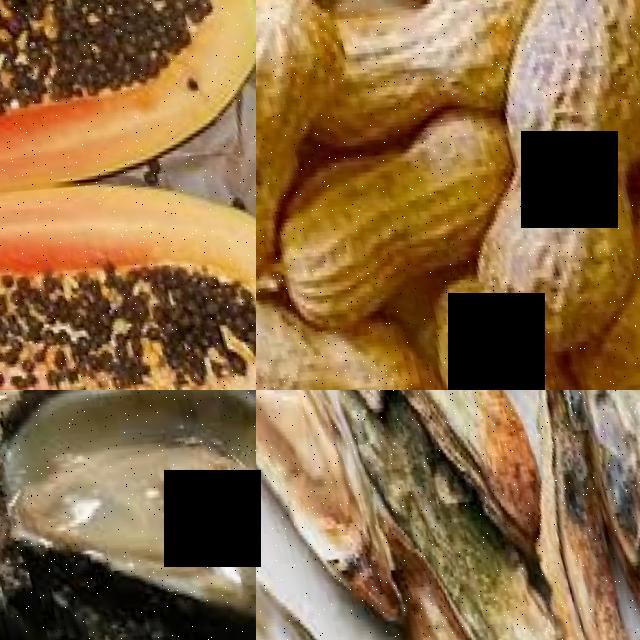oysters: (0, 390, 256, 640), (341, 390, 545, 547), (256, 390, 390, 627), (532, 390, 640, 624)
pawpaw: (0, 137, 256, 390), (0, 0, 256, 236)
peanuts: (435, 108, 640, 351), (256, 138, 458, 334), (465, 0, 640, 157), (329, 0, 504, 124), (256, 291, 434, 390), (256, 0, 364, 152), (420, 330, 593, 390), (256, 96, 286, 281)
